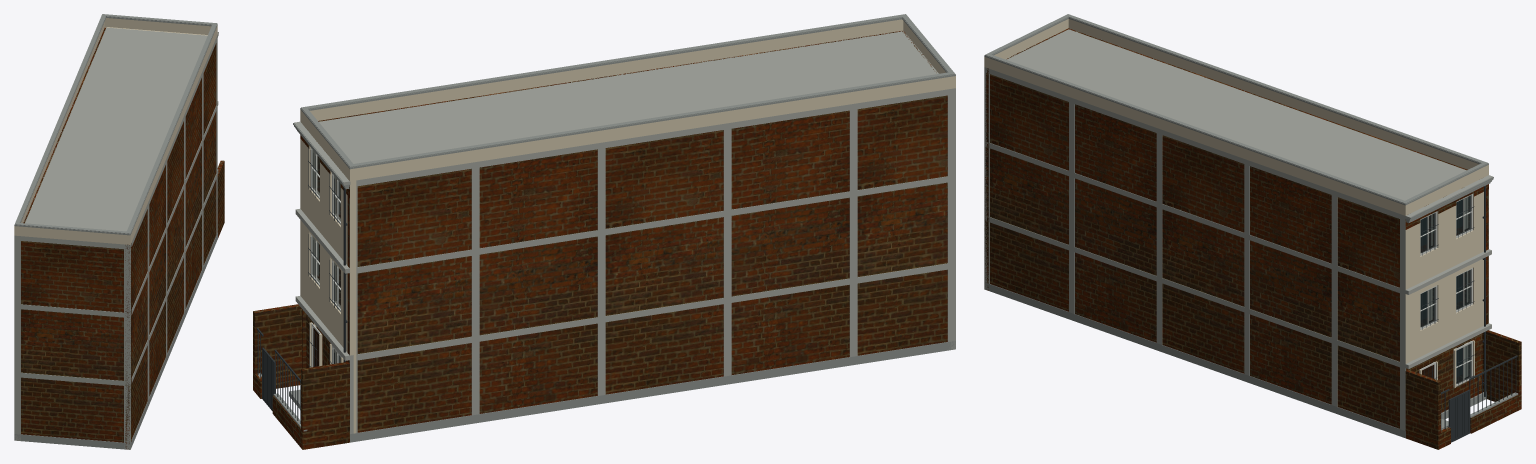
File: building.glb
The picture shows the model from 3 angles, left to right: view 1: azimuth 30°, elevation 25°; view 2: azimuth 150°, elevation 25°; view 3: azimuth 270°, elevation 25°; orthographic projection. The views are drawn at different scales.
Parts seen in each view (by area): view 1: roof/main:0/roof_slab#0001, main:0/edge0/z0/main:0/edge0/z0/wall_0_0/core0, main:0/edge1/z0/main:0/edge1/z0/wall_0_0/core0, roof/main:0/parapet#0001, roof/main:0/parapet_cap#0002, roof/main:0/parapet_cap#0001, main:0/edge0/z0/plinth#0001, main:0/edge1/z0/plinth#0001, main:0/edge0/z0/main:0/edge0/z0/beam_0_0/core0, main:0/edge0/z0/main:0/edge0/z0/beam_1_0/core0, main:0/edge1/z0/main:0/edge1/z0/beam_1_0/core0, main:0/edge1/z0/main:0/edge1/z0/beam_0_0/core0 (+11 smaller); view 2: main:0/edge3/z0/main:0/edge3/z0/wall_0_0, roof/main:0/roof_slab#0001, roof/main:0/parapet#0001, main:0/edge2/z0/main:0/edge2/z0/wall_1_0/core0, main:0/edge3/z0/plinth#0001, roof/main:0/parapet_cap#0002, main:0/edge3/z0/main:0/edge3/z0/beam_0_0, main:0/edge3/z0/main:0/edge3/z0/beam_1_0, main:0/edge3/z0/main:0/edge3/z0/beam_2_0, site/fence/2/wall#0001, site/fence/0/wall#0001, roof/main:0/parapet_cap#0001 (+14 smaller); view 3: main:0/edge1/z0/main:0/edge1/z0/wall_0_0/core0, roof/main:0/roof_slab#0001, roof/main:0/parapet#0001, main:0/edge2/z0/main:0/edge2/z0/wall_1_0/core0, roof/main:0/parapet_cap#0002, main:0/edge1/z0/plinth#0001, main:0/edge1/z0/main:0/edge1/z0/beam_0_0/core0, main:0/edge1/z0/main:0/edge1/z0/beam_1_0/core0, site/fence/0/wall#0001, main:0/edge1/z0/main:0/edge1/z0/beam_2_0/core0, site/fence/2/wall#0001, roof/main:0/parapet_cap#0001 (+7 smaller).
Part boxes in pixels (x1,y1,x2,y2): roof/main:0/roof_slab#0001: (14,27,217,247); main:0/edge0/z0/main:0/edge0/z0/wall_0_0/core0: (21,241,123,442); main:0/edge1/z0/main:0/edge1/z0/wall_0_0/core0: (131,43,216,438); roof/main:0/parapet#0001: (14,18,217,244); roof/main:0/parapet_cap#0002: (15,14,217,233); roof/main:0/parapet_cap#0001: (14,15,217,235); main:0/edge0/z0/plinth#0001: (14,434,126,449); main:0/edge1/z0/plinth#0001: (130,233,217,448); main:0/edge0/z0/main:0/edge0/z0/beam_0_0/core0: (14,372,130,386); main:0/edge0/z0/main:0/edge0/z0/beam_1_0/core0: (14,304,130,317); main:0/edge1/z0/main:0/edge1/z0/beam_1_0/core0: (130,103,217,317); main:0/edge1/z0/main:0/edge1/z0/beam_0_0/core0: (130,172,217,385); main:0/edge3/z0/main:0/edge3/z0/wall_0_0: (347,95,947,432); roof/main:0/roof_slab#0001: (319,30,955,184); roof/main:0/parapet#0001: (300,19,955,181); main:0/edge2/z0/main:0/edge2/z0/wall_1_0/core0: (300,139,347,352); main:0/edge3/z0/plinth#0001: (350,341,955,442); roof/main:0/parapet_cap#0002: (301,14,954,167); main:0/edge3/z0/main:0/edge3/z0/beam_0_0: (349,262,955,361); main:0/edge3/z0/main:0/edge3/z0/beam_1_0: (349,175,955,274); main:0/edge3/z0/main:0/edge3/z0/beam_2_0: (356,88,955,186); site/fence/2/wall#0001: (301,362,349,449); site/fence/0/wall#0001: (253,304,301,388); roof/main:0/parapet_cap#0001: (300,17,955,169); main:0/edge1/z0/main:0/edge1/z0/wall_0_0/core0: (990,74,1409,428); roof/main:0/roof_slab#0001: (985,29,1466,218); roof/main:0/parapet#0001: (984,19,1488,215); main:0/edge2/z0/main:0/edge2/z0/wall_1_0/core0: (1405,192,1483,363); roof/main:0/parapet_cap#0002: (985,14,1487,203); main:0/edge1/z0/plinth#0001: (984,283,1405,438); main:0/edge1/z0/main:0/edge1/z0/beam_0_0/core0: (984,215,1405,369); main:0/edge1/z0/main:0/edge1/z0/beam_1_0/core0: (984,141,1405,294); site/fence/0/wall#0001: (1405,369,1440,449); main:0/edge1/z0/main:0/edge1/z0/beam_2_0/core0: (984,67,1405,220); site/fence/2/wall#0001: (1486,330,1521,410); roof/main:0/parapet_cap#0001: (984,17,1488,205).
Size of the model in its own units: 16.72 by 9.19 by 18.83.
10 materials, 2 textured.
